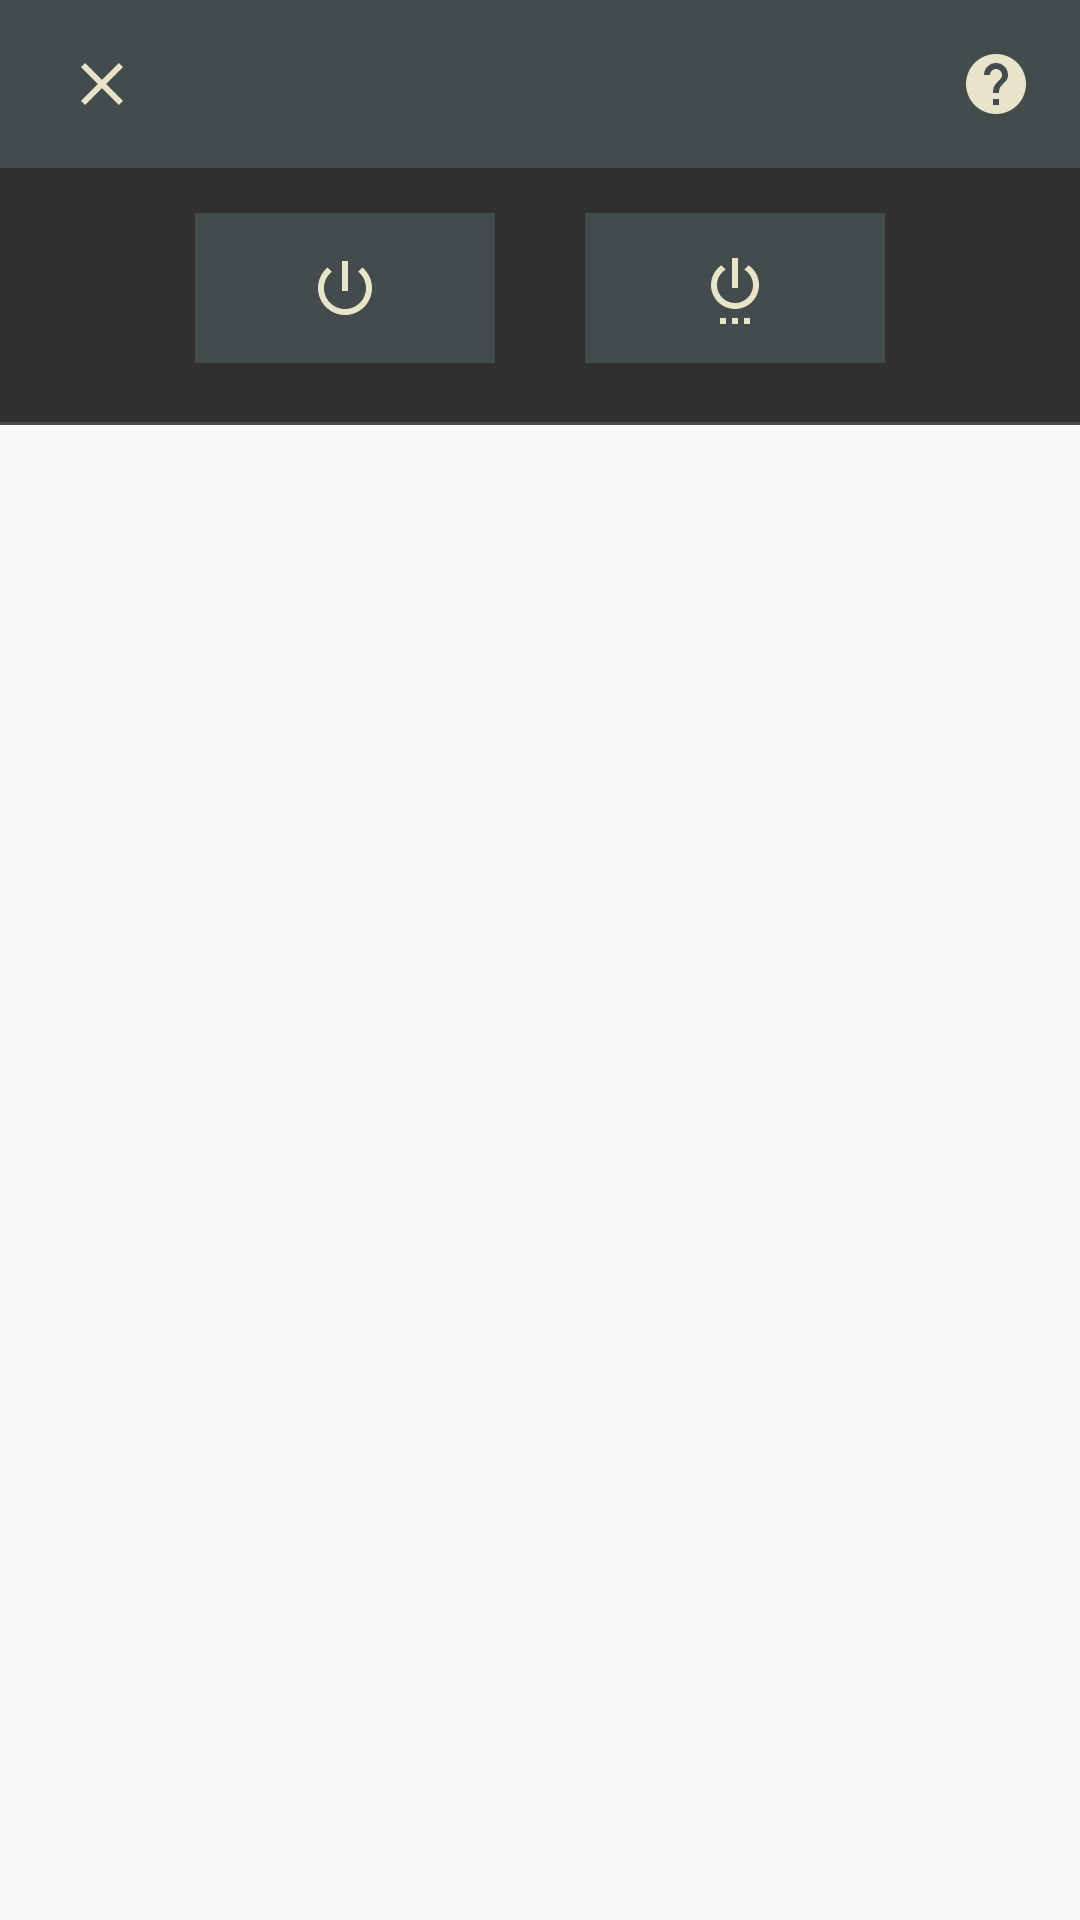

Screen size 1080 × 1920. Icon name, then its box in pixels as (x1, y1, x2, y2):
help: (966, 54, 1026, 114)
settings power: (585, 213, 885, 363)
